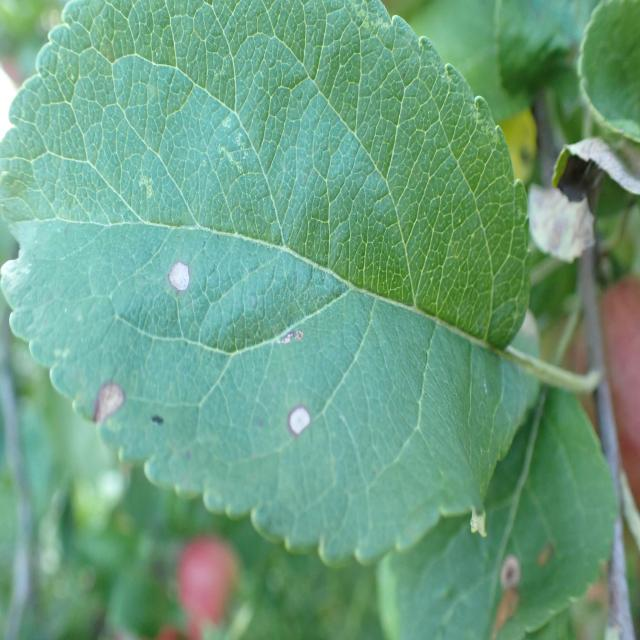frog-eye-leaf-spot: (1, 0, 534, 567)
